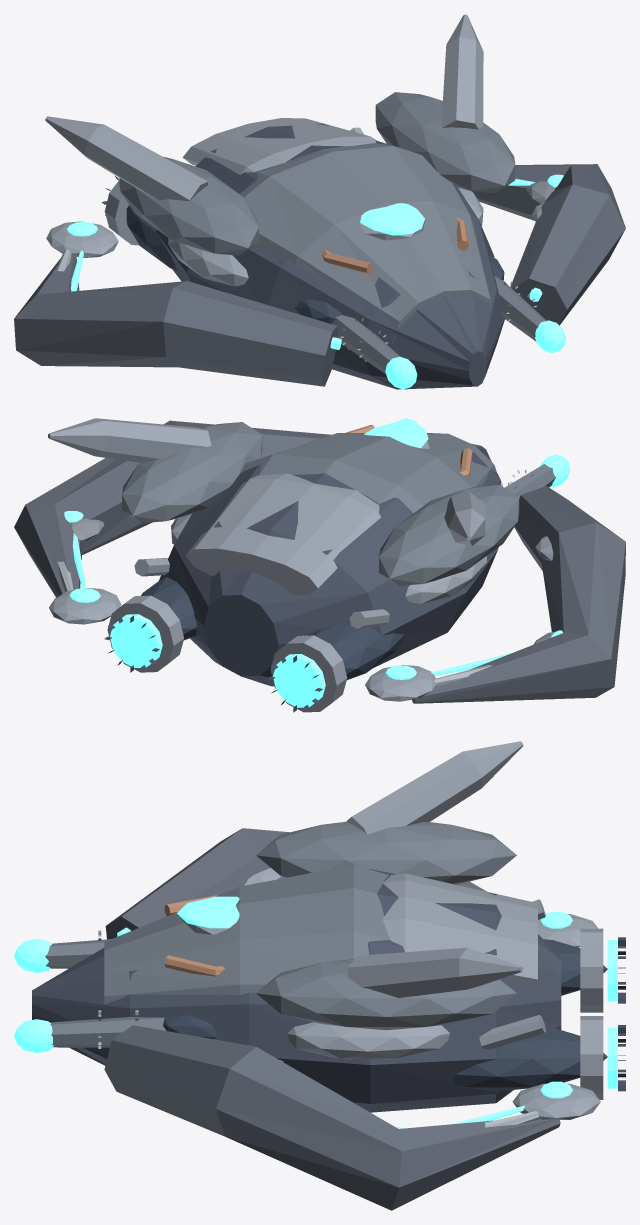
Rendered from npc_sibelon.glb.
The picture shows the model from 3 angles, top to bottom: view 1: azimuth 30°, elevation 25°; view 2: azimuth 150°, elevation 25°; view 3: azimuth 270°, elevation 25°; orthographic projection. The views are drawn at different scales.
Parts seen in each view (by area): view 1: upper_armor_scar, armored_scythe_-1, keel_pressure_hull, armored_scythe_1, colossar_pylon_guard_1, colossar_pylon_guard_-1, colossar_radar_crest_-1, colossar_dorsal_fortress, colossar_radar_crest_1, heavy_shield_pad_-1, long_plasma_cannon_-1, scythe_plate_-1_2 (+8 smaller); view 2: keel_pressure_hull, armored_scythe_-1, colossar_dorsal_fortress, upper_armor_scar, armored_scythe_1, colossar_pylon_guard_1, colossar_pylon_guard_-1, colossar_radar_crest_1, engine_armor_-1, exhaust_coil_1, exhaust_coil_-1, exhaust_blue_1 (+12 smaller); view 3: armored_scythe_1, keel_pressure_hull, upper_armor_scar, colossar_pylon_guard_-1, colossar_pylon_guard_1, colossar_dorsal_fortress, colossar_radar_crest_-1, armored_scythe_-1, colossar_radar_crest_1, engine_armor_1, heavy_shield_pad_1, long_plasma_cannon_1 (+14 smaller).
Boxes of the visible parts, bbox=[...] form: upper_armor_scar: bbox=[240, 143, 492, 342]; armored_scythe_-1: bbox=[14, 256, 337, 386]; keel_pressure_hull: bbox=[156, 123, 504, 389]; armored_scythe_1: bbox=[471, 164, 625, 325]; colossar_pylon_guard_1: bbox=[375, 92, 515, 192]; colossar_pylon_guard_-1: bbox=[119, 156, 258, 255]; colossar_radar_crest_-1: bbox=[45, 116, 207, 201]; colossar_dorsal_fortress: bbox=[182, 118, 376, 174]; colossar_radar_crest_1: bbox=[441, 14, 483, 129]; heavy_shield_pad_-1: bbox=[168, 238, 248, 286]; long_plasma_cannon_-1: bbox=[332, 315, 400, 374]; scythe_plate_-1_2: bbox=[46, 221, 118, 257]; keel_pressure_hull: bbox=[159, 443, 502, 686]; armored_scythe_-1: bbox=[412, 486, 625, 703]; colossar_dorsal_fortress: bbox=[185, 473, 381, 595]; upper_armor_scar: bbox=[239, 433, 496, 513]; armored_scythe_1: bbox=[14, 420, 331, 597]; colossar_pylon_guard_1: bbox=[122, 422, 262, 523]; colossar_pylon_guard_-1: bbox=[379, 484, 519, 585]; colossar_radar_crest_1: bbox=[48, 418, 211, 462]; engine_armor_-1: bbox=[308, 624, 404, 679]; exhaust_coil_1: bbox=[107, 595, 184, 672]; exhaust_coil_-1: bbox=[270, 635, 347, 712]; exhaust_blue_1: bbox=[110, 614, 162, 667]; armored_scythe_1: bbox=[104, 1025, 560, 1210]; keel_pressure_hull: bbox=[32, 869, 561, 1112]; upper_armor_scar: bbox=[104, 865, 389, 1004]; colossar_pylon_guard_-1: bbox=[256, 821, 516, 884]; colossar_pylon_guard_1: bbox=[256, 959, 516, 1030]; colossar_dorsal_fortress: bbox=[383, 873, 537, 984]; colossar_radar_crest_-1: bbox=[346, 741, 523, 834]; armored_scythe_-1: bbox=[105, 828, 486, 939]; colossar_radar_crest_1: bbox=[347, 947, 523, 997]; engine_armor_1: bbox=[453, 1027, 607, 1091]; heavy_shield_pad_1: bbox=[287, 1022, 450, 1059]; long_plasma_cannon_1: bbox=[50, 1017, 166, 1047].
Size of the model in its own units: 5.29 by 1.82 by 4.25.
